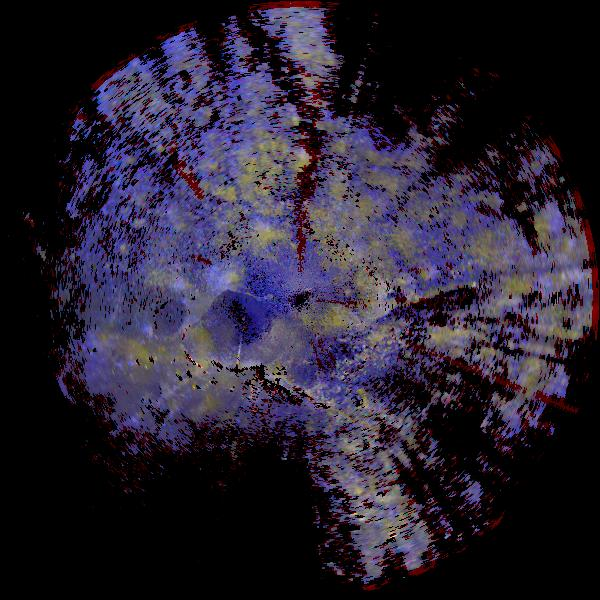roost: (79, 328, 154, 403), (147, 317, 216, 386), (213, 261, 249, 297)
